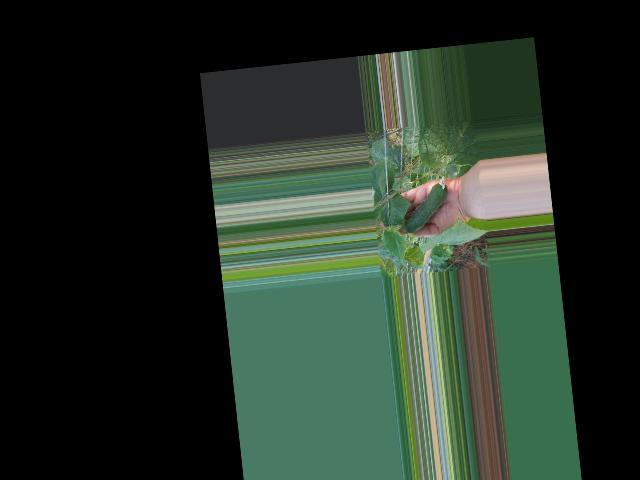cucumber: (399, 175, 451, 233)
